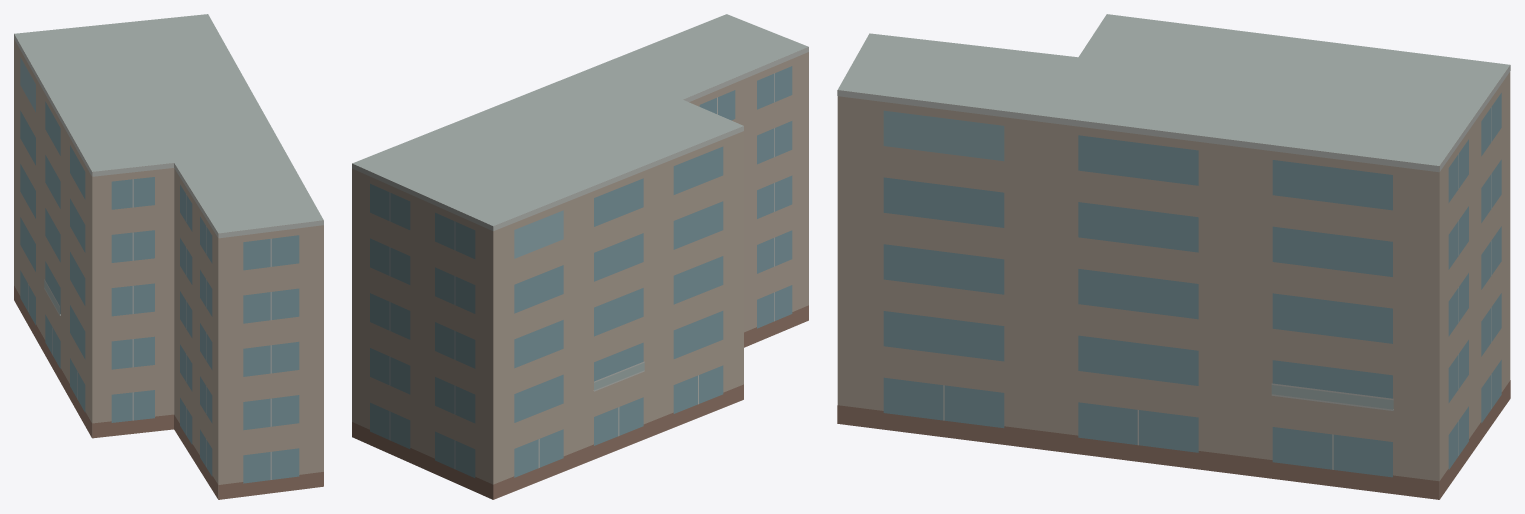
Rendered from survey-upis-32930065.glb.
3 renders of one model, left to right at view 1: azimuth 30°, elevation 25°; view 2: azimuth 150°, elevation 25°; view 3: azimuth 270°, elevation 25°, orthographic. The views are drawn at different scales.
Visible parts, largest first — view 1: survey-upis-32930065.tmp; view 2: survey-upis-32930065.tmp; view 3: survey-upis-32930065.tmp.
Boxes of the visible parts, left/top/right/bottom form: survey-upis-32930065.tmp: left=14, top=14, right=323, bottom=499; survey-upis-32930065.tmp: left=352, top=14, right=808, bottom=499; survey-upis-32930065.tmp: left=837, top=14, right=1510, bottom=499.
Bounding box in the file's own units: 12.91 × 13.2 × 24.13.
